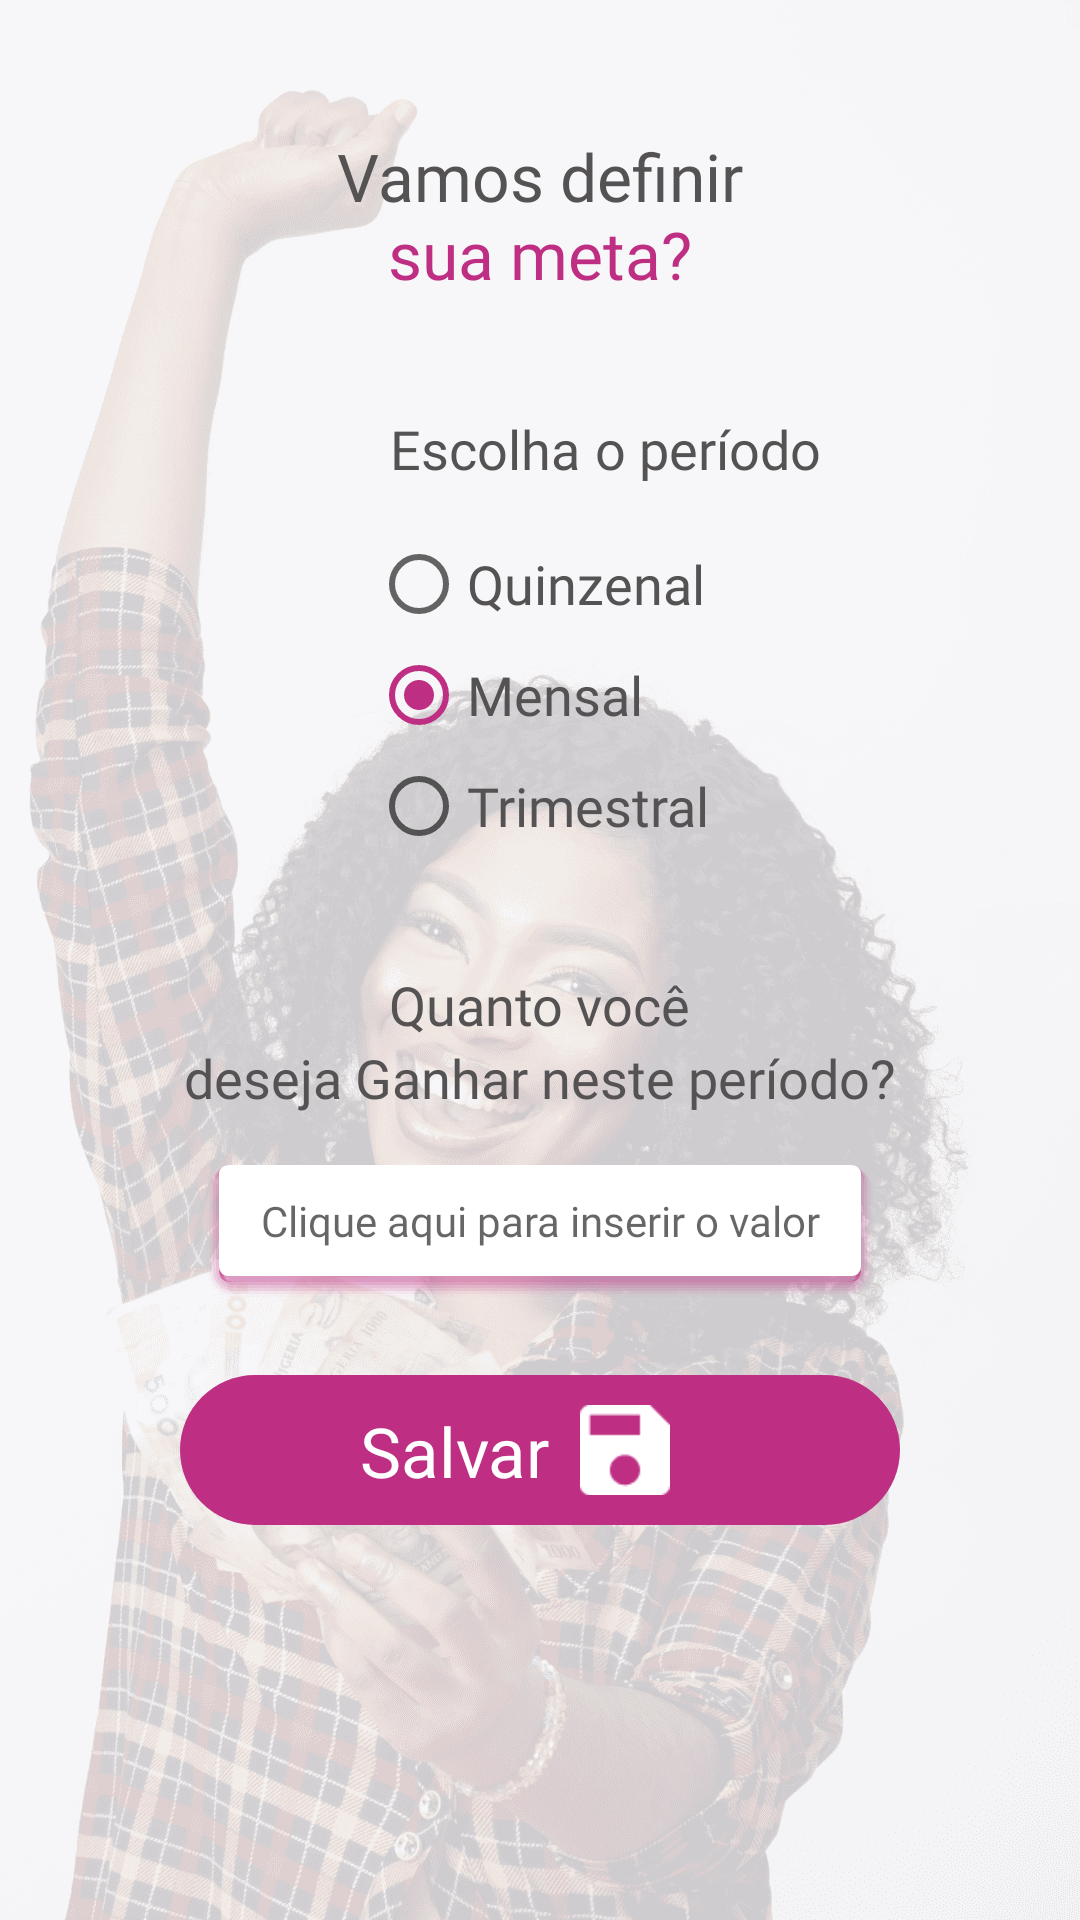

Where icons sit on this 1080 × 1920 app screen, as (left=x1, top=y1, right=x2, bottom=y2):
content save: (left=580, top=1405, right=670, bottom=1495)
